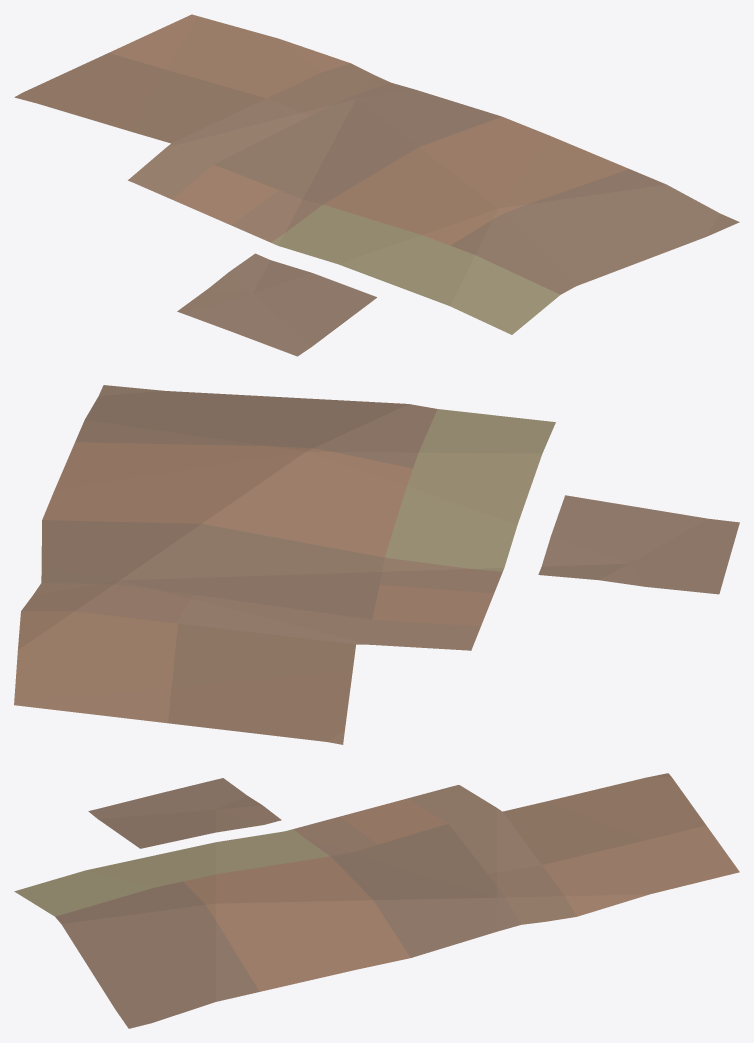
The model's file is farm_-32_-38_soil.glb.
The picture shows the model from 3 angles, top to bottom: view 1: azimuth 30°, elevation 25°; view 2: azimuth 150°, elevation 25°; view 3: azimuth 270°, elevation 25°; orthographic projection. The views are drawn at different scales.
Parts seen in each view (by area): view 1: geometry_0; view 2: geometry_0; view 3: geometry_0.
Boxes of the visible parts, x1=… form: geometry_0: x1=14, y1=14, x2=739, y2=356; geometry_0: x1=14, y1=385, x2=739, y2=744; geometry_0: x1=14, y1=773, x2=739, y2=1028.
Size of the model in its own units: 168 by 14.72 by 206.
